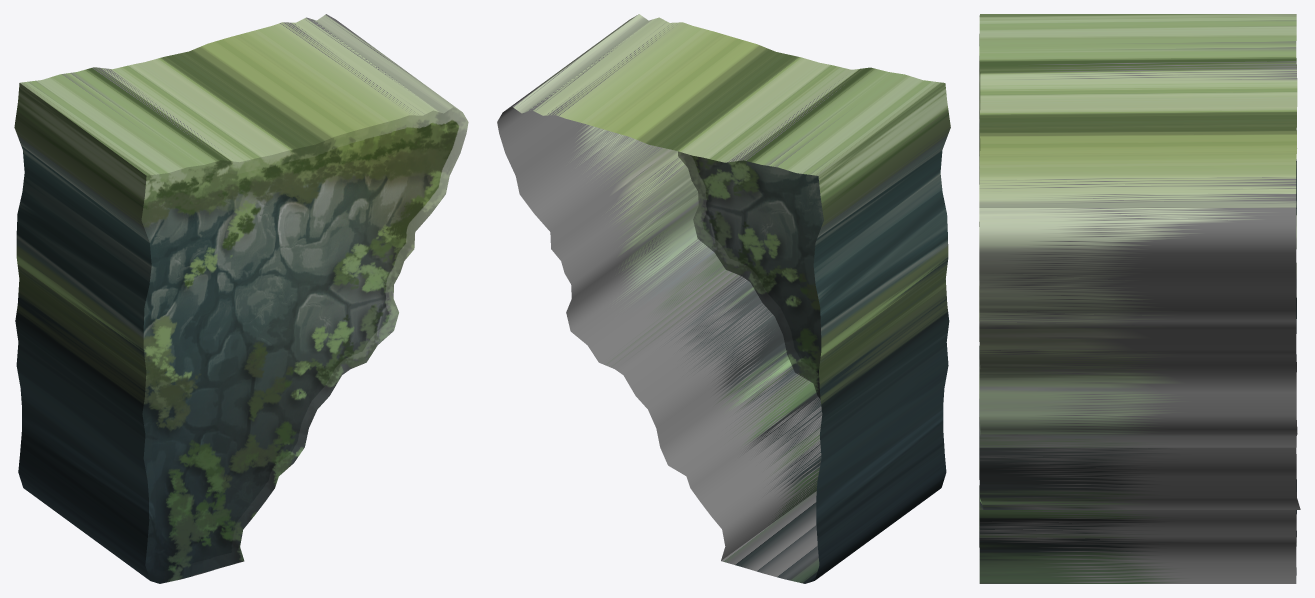
The model's file is iseki_A.fbx.
The picture shows the model from 3 angles, left to right: view 1: azimuth 30°, elevation 25°; view 2: azimuth 150°, elevation 25°; view 3: azimuth 270°, elevation 25°; orthographic projection. The views are drawn at different scales.
Visible parts, largest first — view 1: A; view 2: A; view 3: A.
Boxes of the visible parts, box(x1,y1,x2,y2) form: A: box(14, 14, 468, 583); A: box(497, 14, 950, 583); A: box(979, 14, 1300, 583).
Bounding box in the file's own units: 35.48 × 42.71 × 24.22.
